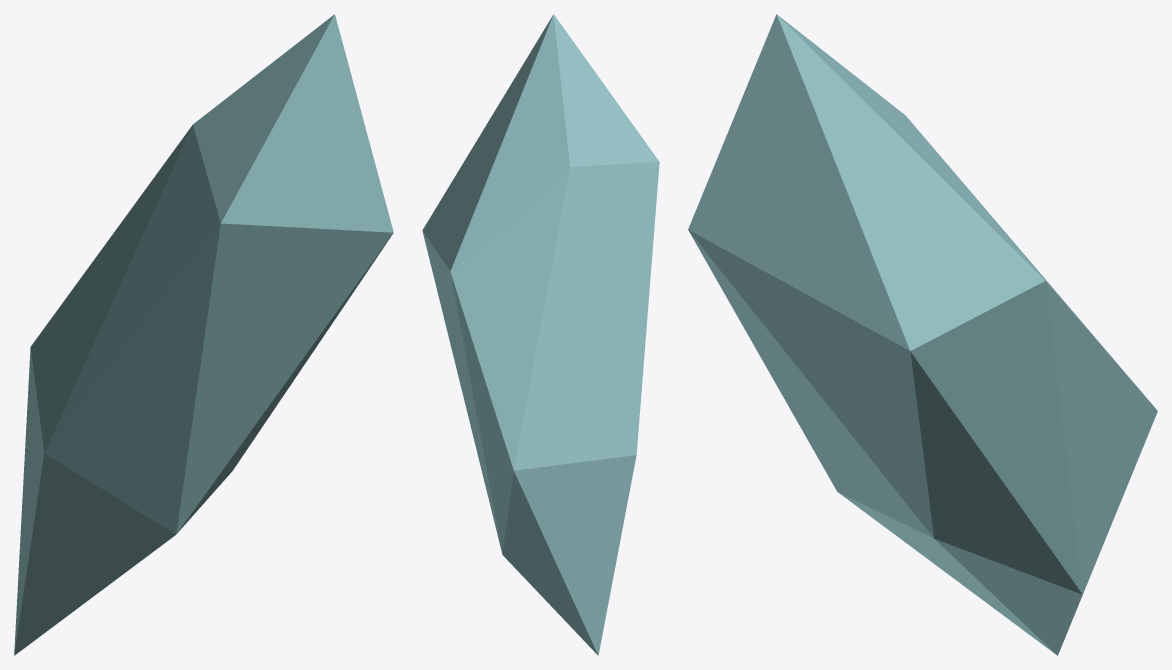
File: kamen 5.fbx
The picture shows the model from 3 angles, left to right: view 1: azimuth 30°, elevation 25°; view 2: azimuth 150°, elevation 25°; view 3: azimuth 270°, elevation 25°; orthographic projection. The views are drawn at different scales.
Visible parts, largest first — view 1: Icosphere.009; view 2: Icosphere.009; view 3: Icosphere.009.
Part boxes in pixels (x1,y1,x2,y2): Icosphere.009: (14, 14, 393, 655); Icosphere.009: (422, 14, 659, 655); Icosphere.009: (688, 14, 1157, 655).
Size of the model in its own units: 326 by 701 by 403.
